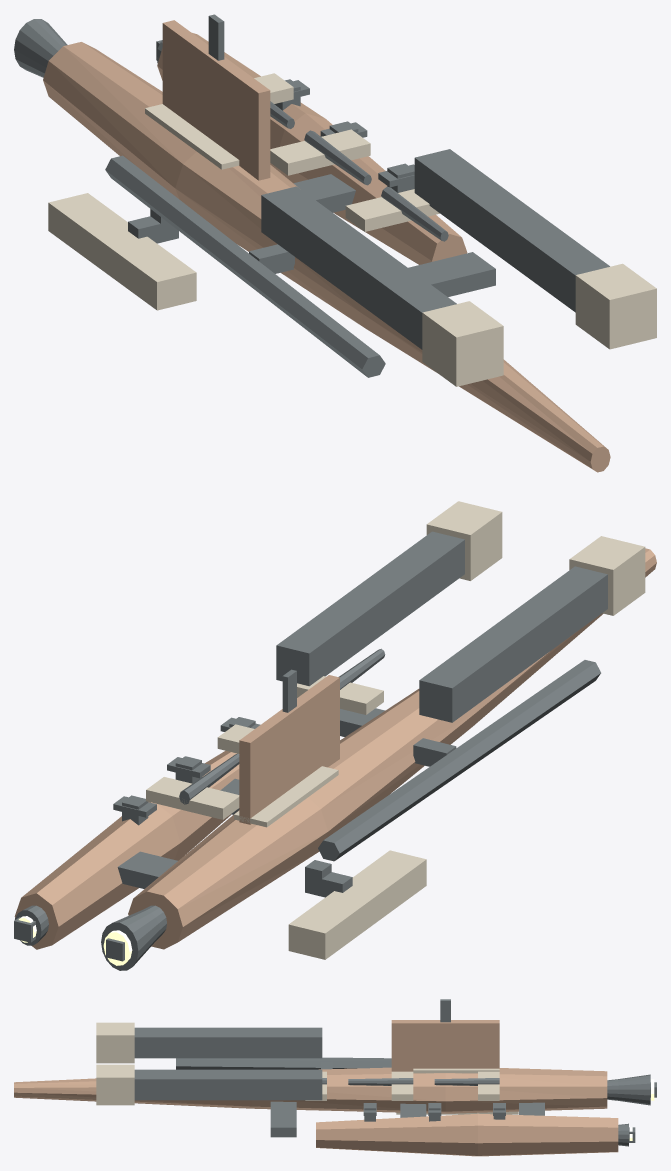
3 views of the same model, one above another, from view 1: azimuth 30°, elevation 25°; view 2: azimuth 150°, elevation 25°; view 3: azimuth 270°, elevation 25° (orthographic). The views are drawn at different scales.
Size of the model in its own units: 6.1 by 5.46 by 24.14.
